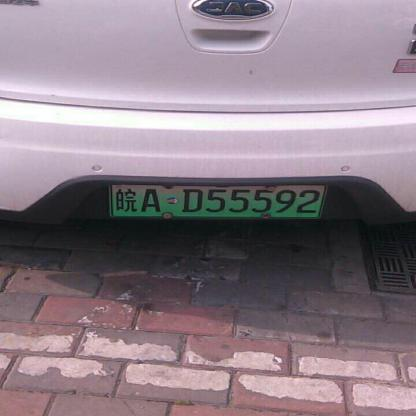lp: (110, 184, 326, 218)
